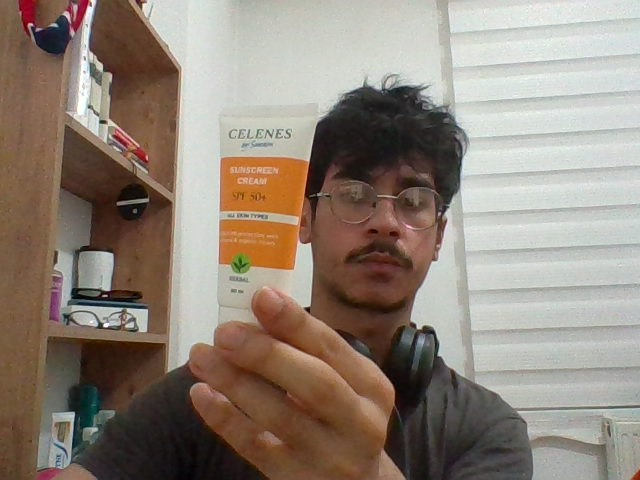CelenesSunCream: (217, 105, 317, 330)
